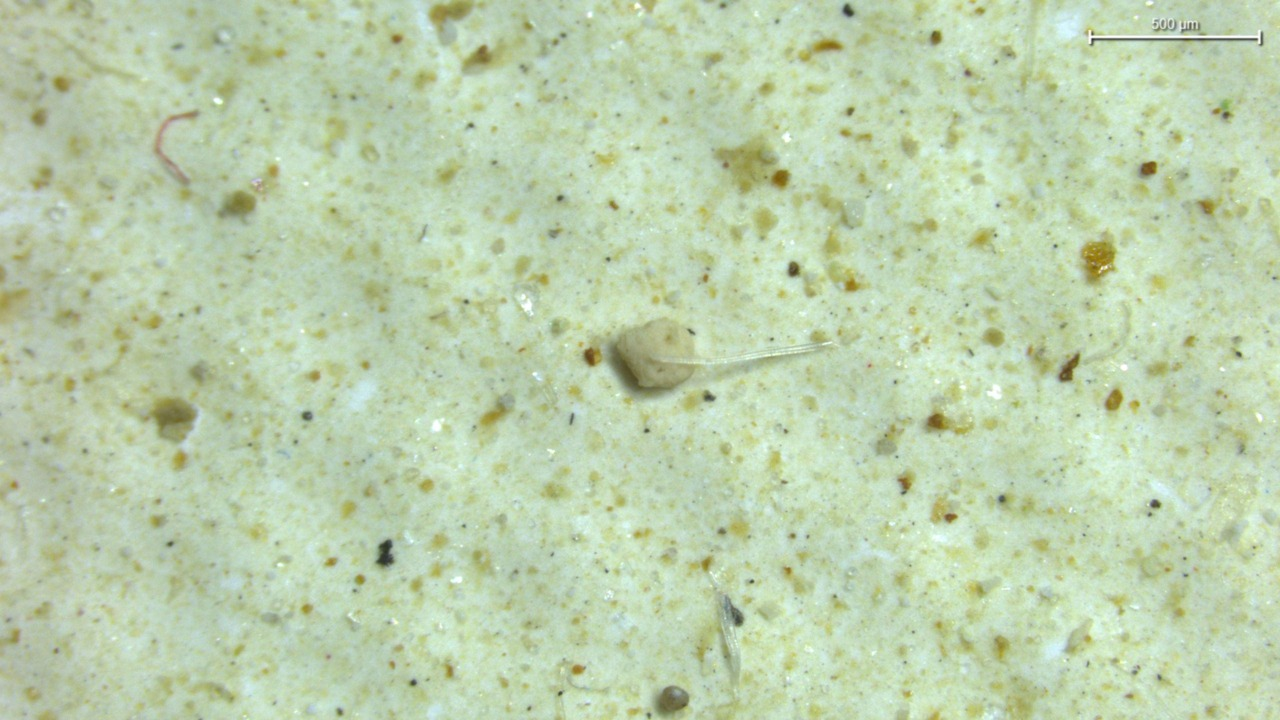microplastic_fragment: (616, 319, 703, 388)
